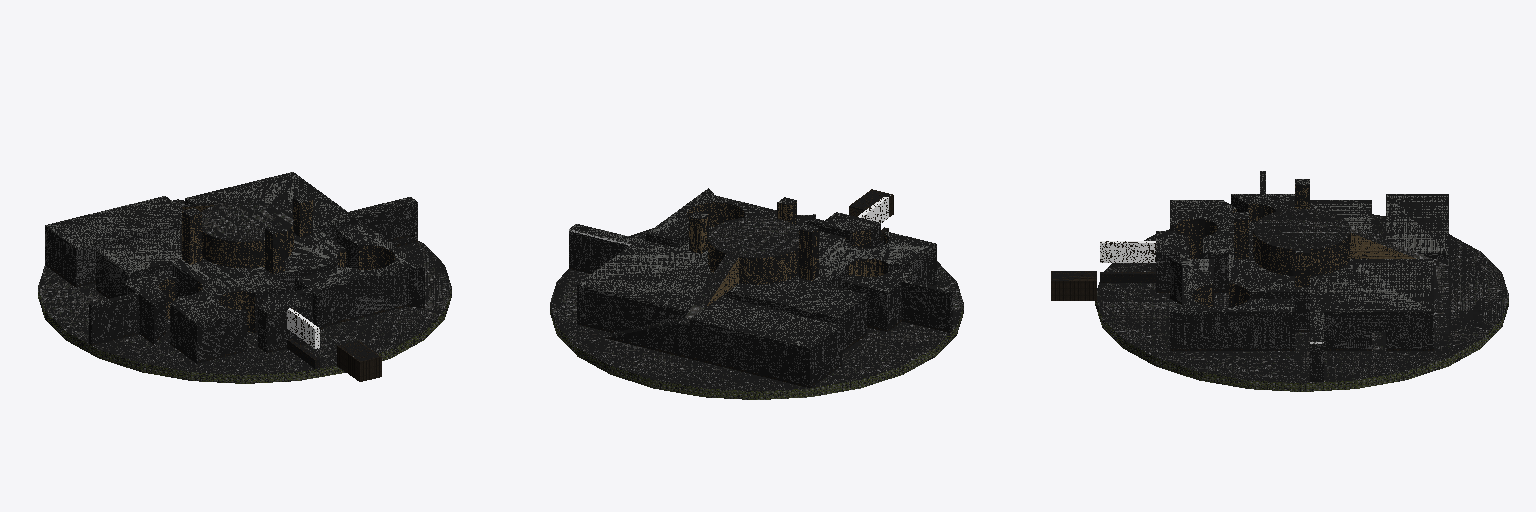
The picture shows the model from 3 angles: view 1: azimuth 30°, elevation 25°; view 2: azimuth 150°, elevation 25°; view 3: azimuth 270°, elevation 25°; orthographic projection.
Visible parts, largest first — view 1: Mesh1 Model; view 2: Mesh1 Model; view 3: Mesh1 Model.
Part boxes in pixels (left/top/right/bottom): Mesh1 Model: left=38, top=172, right=451, bottom=383; Mesh1 Model: left=550, top=188, right=963, bottom=399; Mesh1 Model: left=1051, top=171, right=1508, bottom=391.
Size of the model in its own units: 84.77 by 21.97 by 93.86.
3 materials, 1 textured.